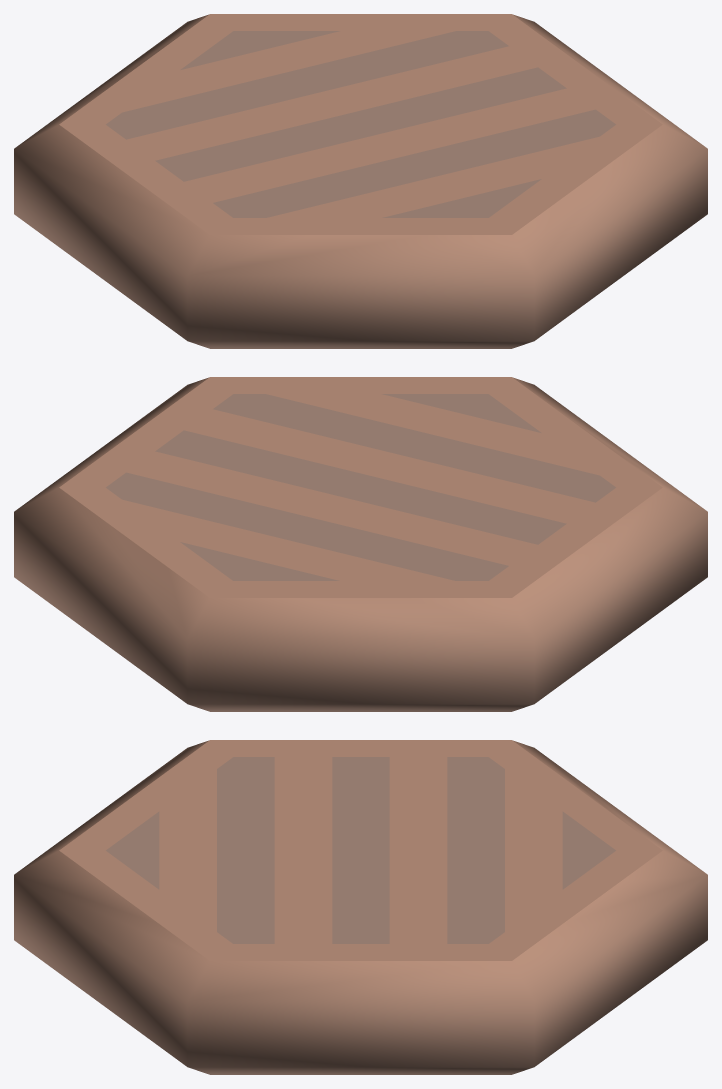
File: meat-patty.glb
The picture shows the model from 3 angles, top to bottom: view 1: azimuth 30°, elevation 25°; view 2: azimuth 150°, elevation 25°; view 3: azimuth 270°, elevation 25°; orthographic projection.
Parts seen in each view (by area): view 1: meat-patty; view 2: meat-patty; view 3: meat-patty.
Part boxes in pixels (x1,y1,x2,y2): meat-patty: (14,14,707,348); meat-patty: (14,377,707,711); meat-patty: (14,740,707,1074).
Size of the model in its own units: 0.2988 by 0.0624 by 0.345.
